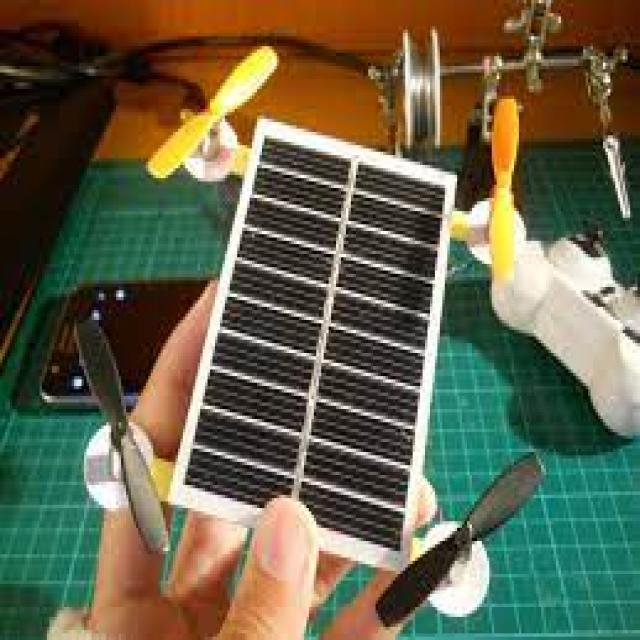no faulty: (182, 137, 457, 542)
